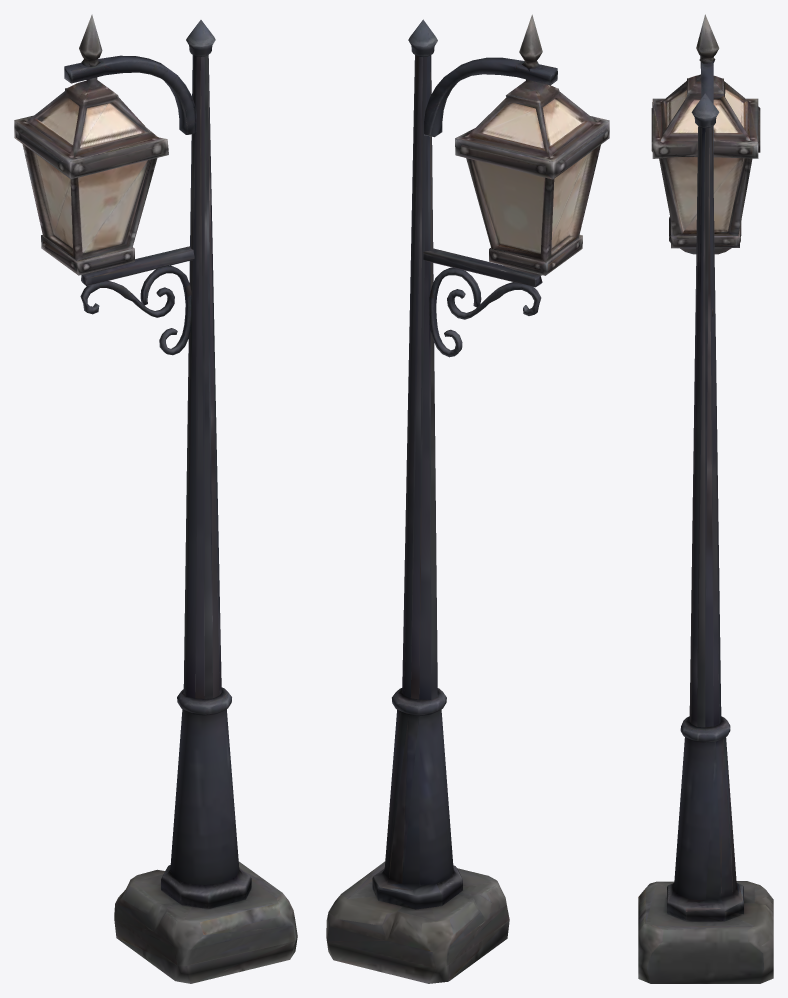
The model's file is lantern-post.glb.
3 views of the same model, side by side, from view 1: azimuth 30°, elevation 25°; view 2: azimuth 150°, elevation 25°; view 3: azimuth 270°, elevation 25° (orthographic). The views are drawn at different scales.
Size of the model in its own units: 0.2358 by 0.9526 by 0.1313.
Materials: 1 (1 with a texture image).
